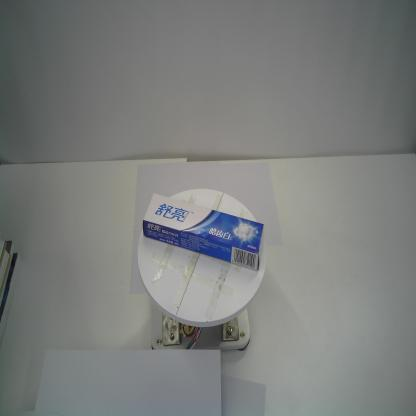Personal Hygiene: (142, 191, 266, 274)
